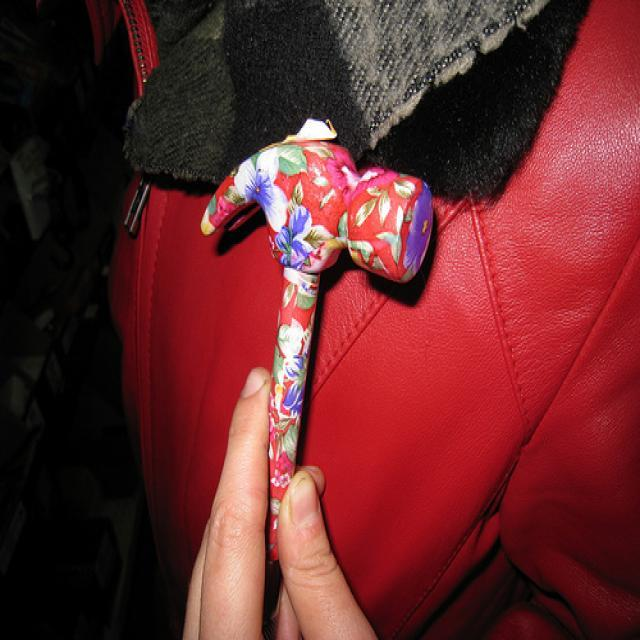hammer: (195, 125, 438, 562)
